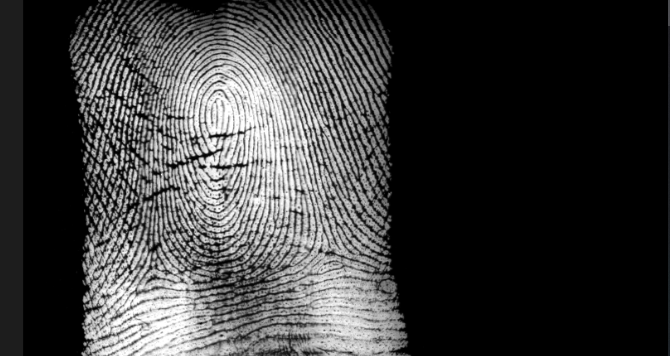nucelo: (204, 89, 225, 138)
verticilo: (310, 235, 342, 264), (140, 258, 165, 282)
